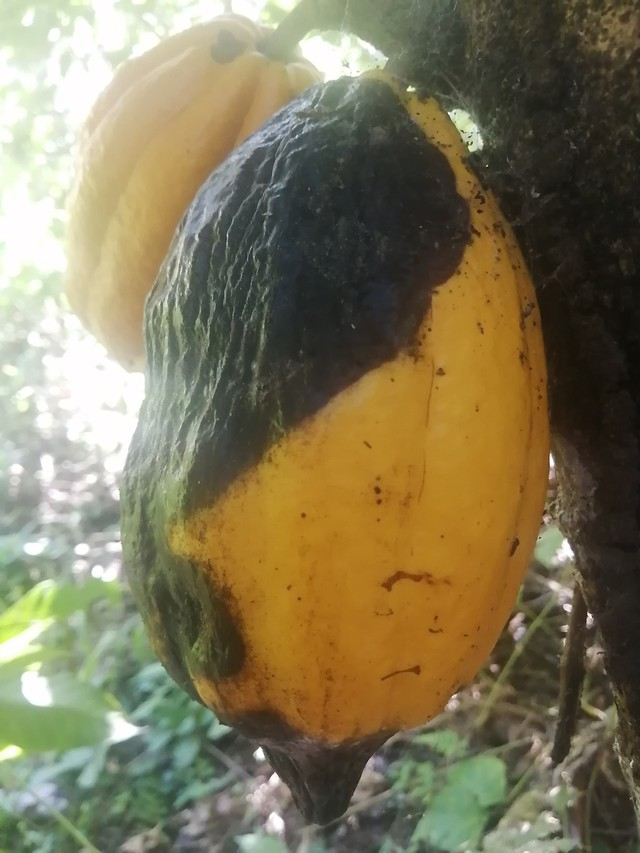phytophthora palmivora: (97, 49, 564, 838)
